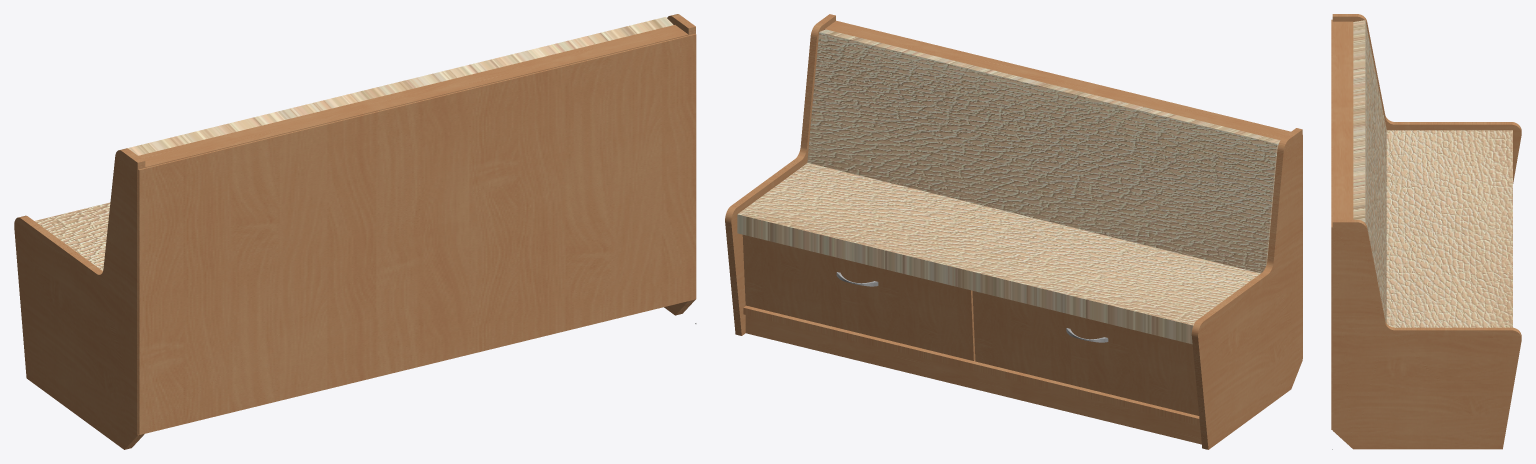
Rendered from divan_malvina_5_s_jaschikami_polumjagkij.glb.
The picture shows the model from 3 angles, left to right: view 1: azimuth 30°, elevation 25°; view 2: azimuth 150°, elevation 25°; view 3: azimuth 270°, elevation 25°; orthographic projection. The views are drawn at different scales.
Visible parts, largest first — view 1: Shape_IndexedFaceSet_NON, Shape_IndexedFaceSet.002, Shape_IndexedFaceSet.005, Shape_IndexedFaceSet.008_NON, Shape_IndexedFaceSet.007_NON; view 2: Shape_IndexedFaceSet.008_NON, Shape_IndexedFaceSet.007_NON, Shape_IndexedFaceSet.002, Shape_IndexedFaceSet.018, Shape_IndexedFaceSet.009, Shape_IndexedFaceSet.006, Shape_IndexedFaceSet.005, Shape_IndexedFaceSet.003, Shape_IndexedFaceSet.001; view 3: Shape_IndexedFaceSet.001, Shape_IndexedFaceSet.007_NON, Shape_IndexedFaceSet.008_NON, Shape_IndexedFaceSet.005, Shape_IndexedFaceSet.002, Shape_IndexedFaceSet_NON.
Boxes of the visible parts, x1,y1,x2,y2 form: Shape_IndexedFaceSet_NON: (138, 33, 696, 434); Shape_IndexedFaceSet.002: (14, 148, 145, 449); Shape_IndexedFaceSet.005: (138, 25, 688, 167); Shape_IndexedFaceSet.008_NON: (127, 17, 673, 155); Shape_IndexedFaceSet.007_NON: (34, 202, 110, 270); Shape_IndexedFaceSet.008_NON: (807, 29, 1280, 273); Shape_IndexedFaceSet.007_NON: (737, 163, 1260, 344); Shape_IndexedFaceSet.002: (1191, 128, 1302, 449); Shape_IndexedFaceSet.018: (742, 235, 975, 360); Shape_IndexedFaceSet.009: (972, 291, 1199, 415); Shape_IndexedFaceSet.006: (745, 315, 1201, 444); Shape_IndexedFaceSet.005: (824, 21, 1290, 140); Shape_IndexedFaceSet.003: (743, 305, 1199, 425); Shape_IndexedFaceSet.001: (725, 14, 835, 335); Shape_IndexedFaceSet.001: (1332, 219, 1521, 449); Shape_IndexedFaceSet.007_NON: (1386, 130, 1512, 327); Shape_IndexedFaceSet.008_NON: (1353, 20, 1386, 322); Shape_IndexedFaceSet.005: (1332, 21, 1353, 219); Shape_IndexedFaceSet.002: (1332, 14, 1521, 183); Shape_IndexedFaceSet_NON: (1331, 19, 1332, 429).
Size of the model in its own units: 1201 by 611 by 463.
Materials: 28 (27 with a texture image).
